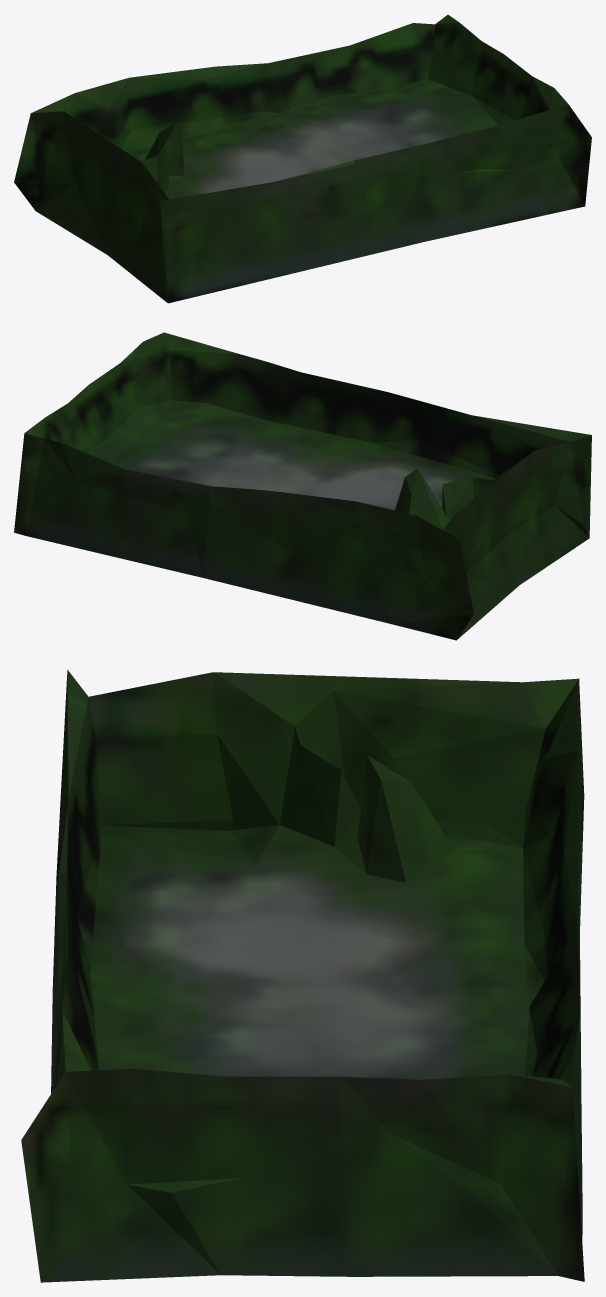
3 renders of one model, top to bottom at view 1: azimuth 30°, elevation 25°; view 2: azimuth 150°, elevation 25°; view 3: azimuth 270°, elevation 25°, orthographic. The views are drawn at different scales.
Parts seen in each view (by area): view 1: geometry_0.022_Baked; view 2: geometry_0.022_Baked; view 3: geometry_0.022_Baked.
Part boxes in pixels (bbox=[...]): geometry_0.022_Baked: bbox=[14, 15, 591, 303]; geometry_0.022_Baked: bbox=[14, 332, 591, 640]; geometry_0.022_Baked: bbox=[21, 669, 584, 1282].
Bounding box in the file's own units: 13.1 × 3.17 × 7.3.
